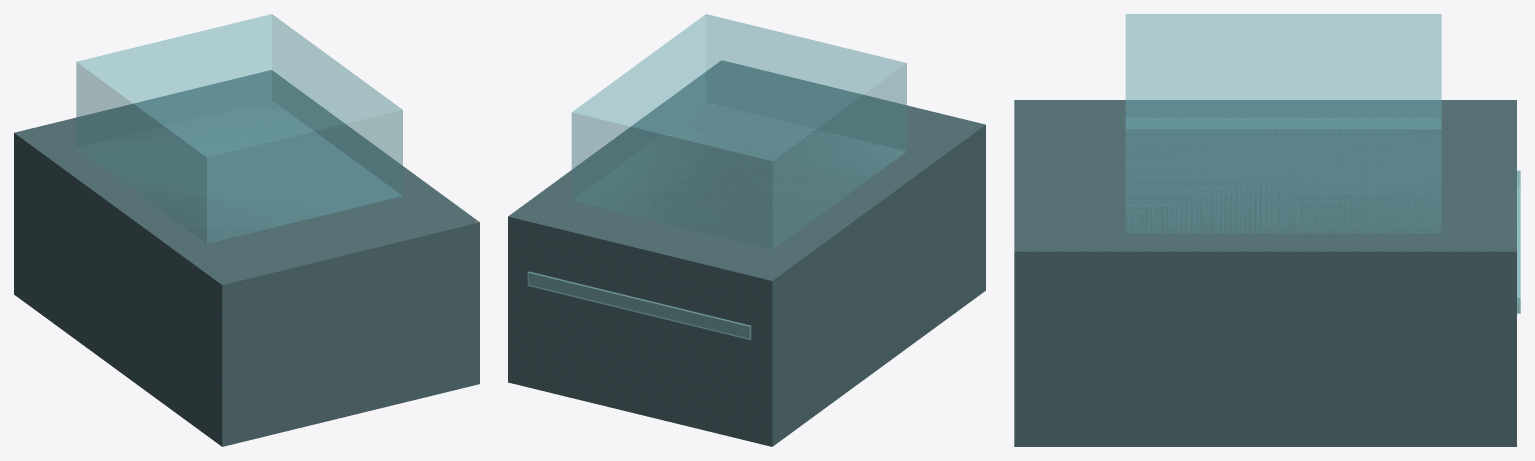
3 views of the same model, side by side, from view 1: azimuth 30°, elevation 25°; view 2: azimuth 150°, elevation 25°; view 3: azimuth 270°, elevation 25° (orthographic). The views are drawn at different scales.
Visible parts, largest first — view 1: 原三盒载具代理尺寸派生; view 2: 原三盒载具代理尺寸派生; view 3: 原三盒载具代理尺寸派生.
Part boxes in pixels (box(x1,y1,x2,y2)): 原三盒载具代理尺寸派生: box(14, 14, 479, 446); 原三盒载具代理尺寸派生: box(508, 14, 985, 446); 原三盒载具代理尺寸派生: box(1014, 14, 1520, 446).
Bounding box in the file's own units: 2.5 × 2.3 × 3.52.
4 materials, 4 textured.
